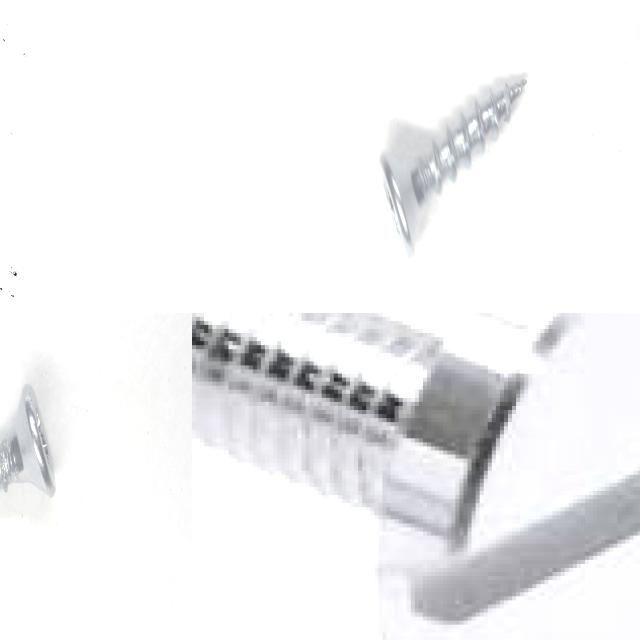Screw: (192, 313, 640, 640), (379, 78, 526, 258), (0, 383, 56, 496)
